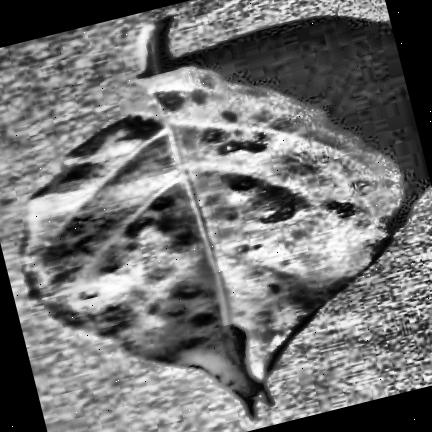leaf: (22, 17, 403, 400)
